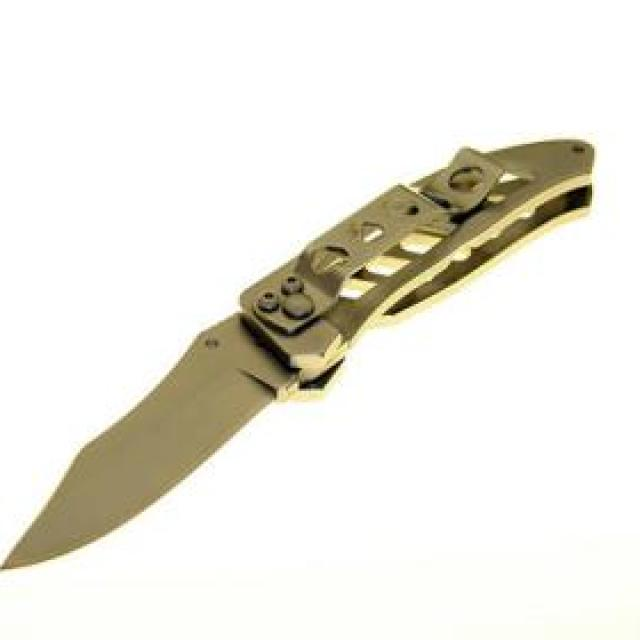knife: (0, 124, 601, 580)
